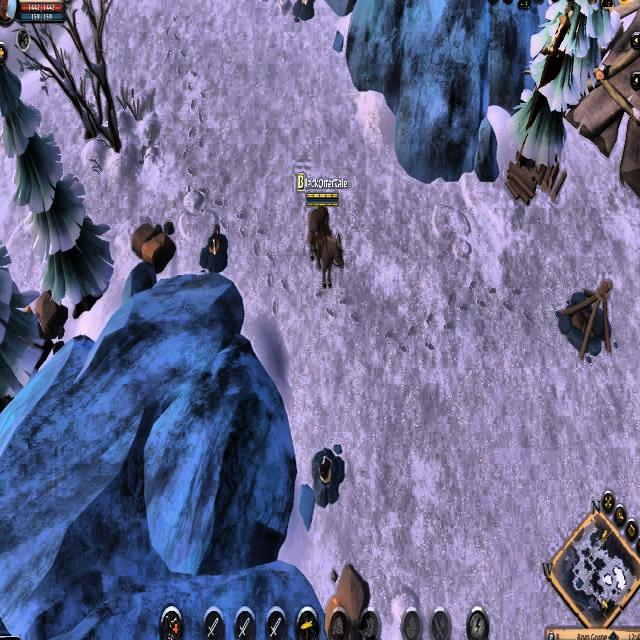copperore: (308, 441, 347, 510), (199, 219, 232, 275), (290, 0, 319, 20)
limestone: (324, 558, 376, 640), (19, 280, 71, 349), (130, 212, 176, 278)
